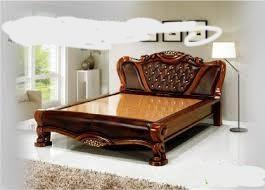Bed-Mattress: (19, 48, 244, 164)
